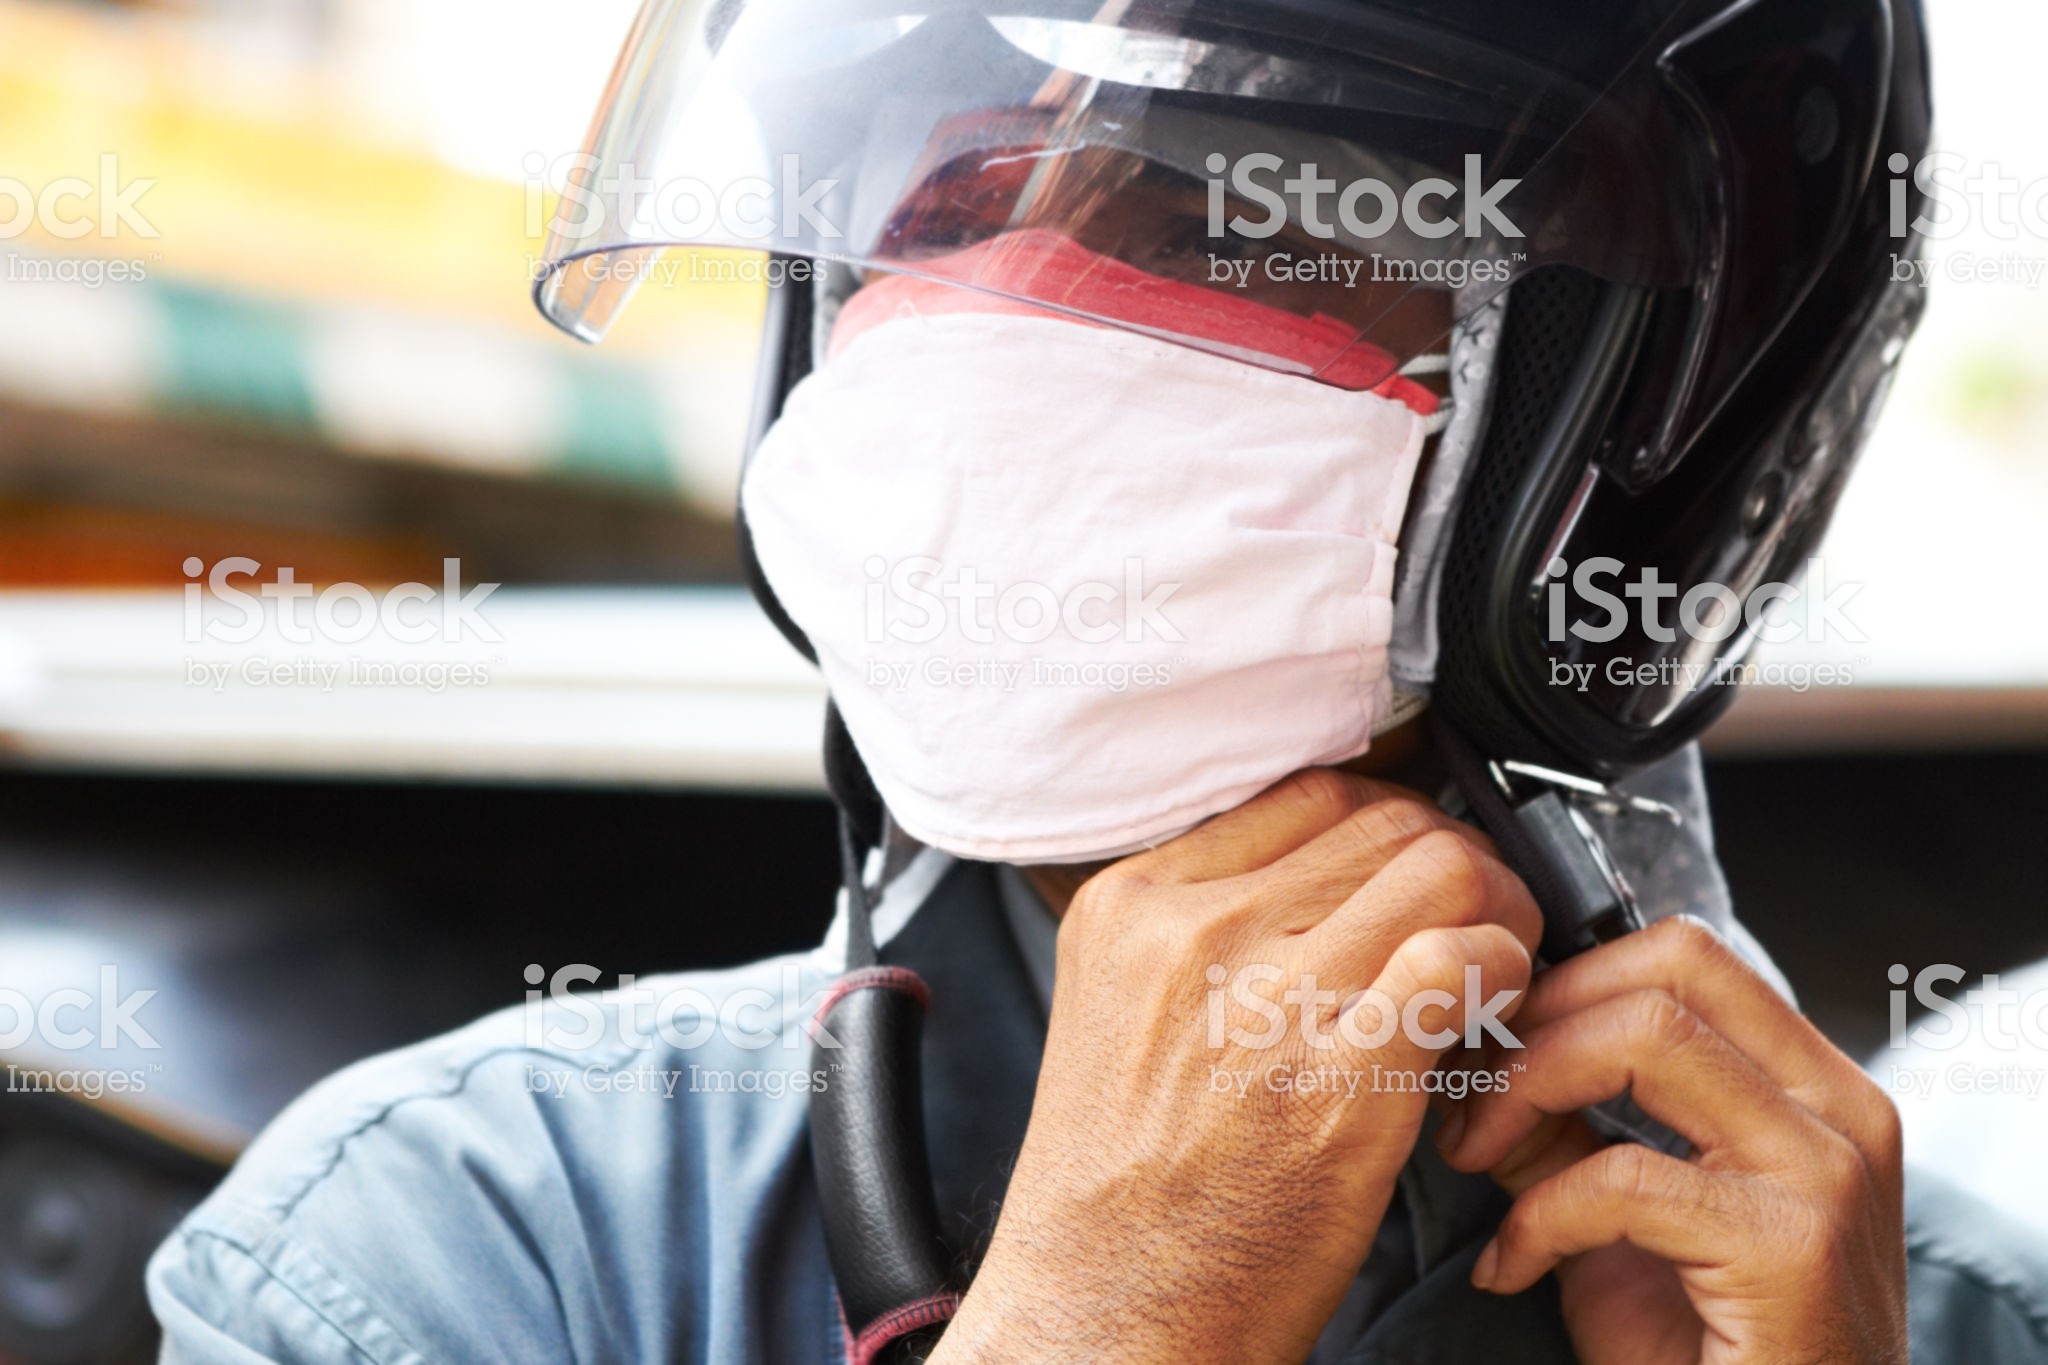helmet: (643, 5, 1981, 839)
